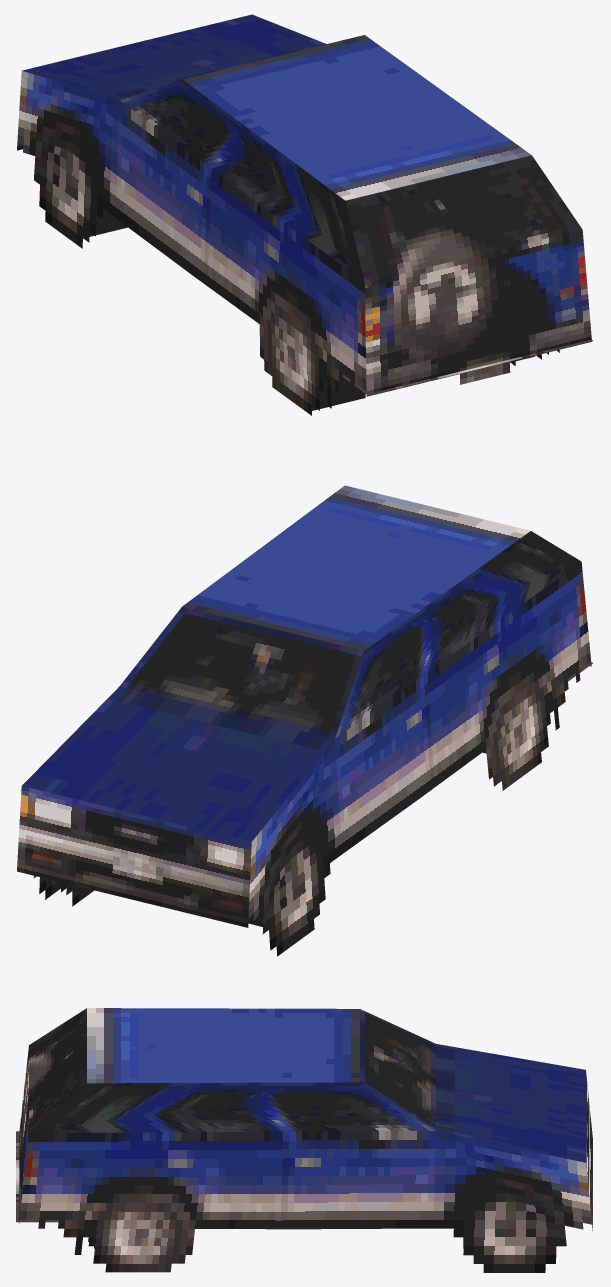
File: car-rodeo.glb
3 renders of one model, top to bottom at view 1: azimuth 30°, elevation 25°; view 2: azimuth 150°, elevation 25°; view 3: azimuth 270°, elevation 25°, orthographic. The views are drawn at different scales.
Parts seen in each view (by area): view 1: car-rodeo; view 2: car-rodeo; view 3: car-rodeo.
Part boxes in pixels (x1,y1,x2,y2): car-rodeo: (17,14,592,415); car-rodeo: (17,485,592,956); car-rodeo: (16,1008,592,1272).
Bounding box in the file's own units: 1.73 × 1.55 × 4.55.
13 materials, 13 textured.
